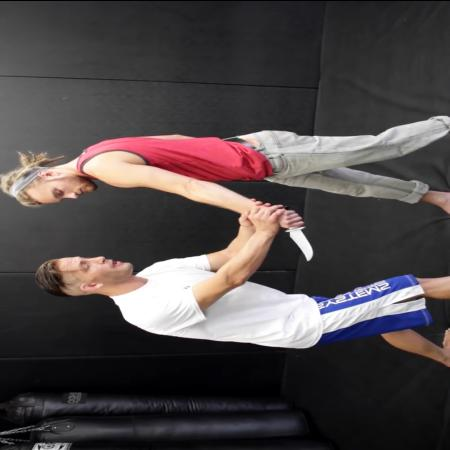long weapon: (278, 203, 322, 263)
